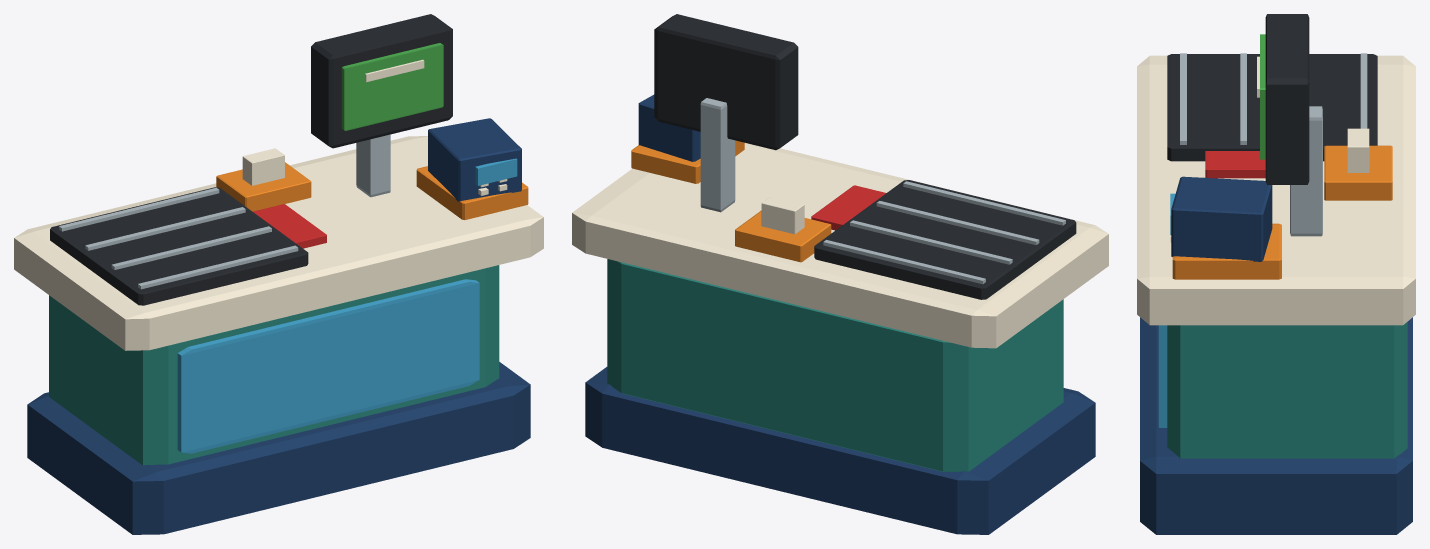
The model's file is cash_register.glb.
The picture shows the model from 3 angles, left to right: view 1: azimuth 30°, elevation 25°; view 2: azimuth 150°, elevation 25°; view 3: azimuth 270°, elevation 25°; orthographic projection. The views are drawn at different scales.
Visible parts, largest first — view 1: Checkout countertop, Register base, Cabinet front panel, Register cabinet, Conveyor belt, Register monitor, Register screen, Payment terminal body, Receipt printer, Payment terminal base, Monitor stem, Scanner glass (+6 smaller); view 2: Register cabinet, Checkout countertop, Register base, Conveyor belt, Register monitor, Monitor stem, Receipt printer, Payment terminal body, Payment terminal base, Scanner glass, Receipt paper, Conveyor roller.001 (+3 smaller); view 3: Checkout countertop, Register cabinet, Register base, Conveyor belt, Payment terminal body, Register monitor, Receipt printer, Payment terminal base, Monitor stem, Scanner glass, Receipt paper, Cabinet front panel (+4 smaller).
Part boxes in pixels (bbox=[...]): Checkout countertop: bbox=[14, 136, 543, 350]; Register base: bbox=[27, 362, 530, 534]; Cabinet front panel: bbox=[177, 279, 479, 453]; Register cabinet: bbox=[49, 265, 499, 465]; Conveyor belt: bbox=[50, 187, 308, 305]; Register monitor: bbox=[311, 14, 452, 148]; Register screen: bbox=[341, 43, 443, 130]; Payment terminal body: bbox=[428, 118, 521, 201]; Receipt printer: bbox=[216, 162, 311, 211]; Payment terminal base: bbox=[416, 166, 528, 219]; Monitor stem: bbox=[356, 134, 390, 197]; Scanner glass: bbox=[253, 204, 326, 248]; Register cabinet: bbox=[607, 259, 1063, 471]; Checkout countertop: bbox=[572, 143, 1108, 348]; Register base: bbox=[585, 367, 1095, 534]; Conveyor belt: bbox=[814, 180, 1076, 299]; Register monitor: bbox=[654, 14, 798, 150]; Monitor stem: bbox=[700, 98, 735, 212]; Receipt printer: bbox=[735, 210, 831, 262]; Payment terminal body: bbox=[638, 94, 700, 161]; Payment terminal base: bbox=[631, 140, 744, 183]; Scanner glass: bbox=[811, 185, 886, 230]; Receipt paper: bbox=[761, 196, 804, 234]; Conveyor roller.001: bbox=[876, 201, 1039, 244]; Checkout countertop: bbox=[1137, 55, 1415, 325]; Register cabinet: bbox=[1167, 322, 1407, 458]; Register base: bbox=[1140, 317, 1412, 534]; Conveyor belt: bbox=[1167, 54, 1377, 161]; Payment terminal body: bbox=[1171, 176, 1272, 261]; Register monitor: bbox=[1265, 14, 1309, 184]; Receipt printer: bbox=[1324, 145, 1392, 200]; Payment terminal base: bbox=[1172, 223, 1281, 279]; Monitor stem: bbox=[1290, 106, 1322, 236]; Scanner glass: bbox=[1205, 151, 1265, 178]; Receipt paper: bbox=[1347, 128, 1369, 172]; Cabinet front panel: bbox=[1158, 325, 1167, 427].
Size of the model in its own units: 2.02 by 1.79 by 1.02.
